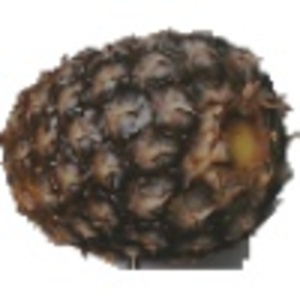abacaxi: (1, 19, 289, 261)
